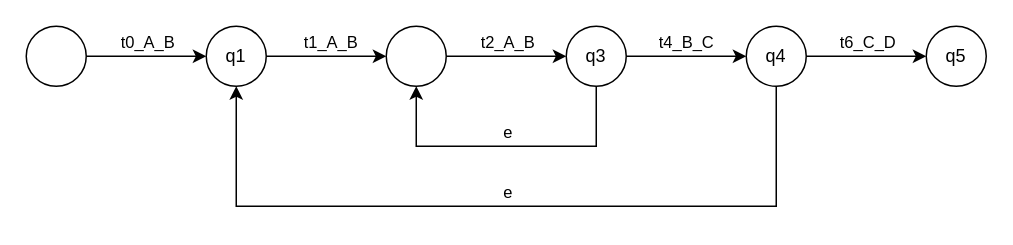
The diagram is 1013 pixels wide and 245 high, and some of its shapes have lost their labels. Each missing label, with the centre of its shape:
"q0" belongs at point (55, 55).
"q2" belongs at point (415, 55).
